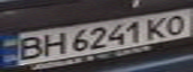1: (121, 18, 148, 44)
2: (87, 24, 112, 51)
4: (106, 20, 130, 46)
6: (66, 26, 90, 53)
B: (9, 34, 48, 62)
H: (36, 30, 69, 57)
K: (139, 15, 175, 39)
O: (160, 11, 193, 35)
